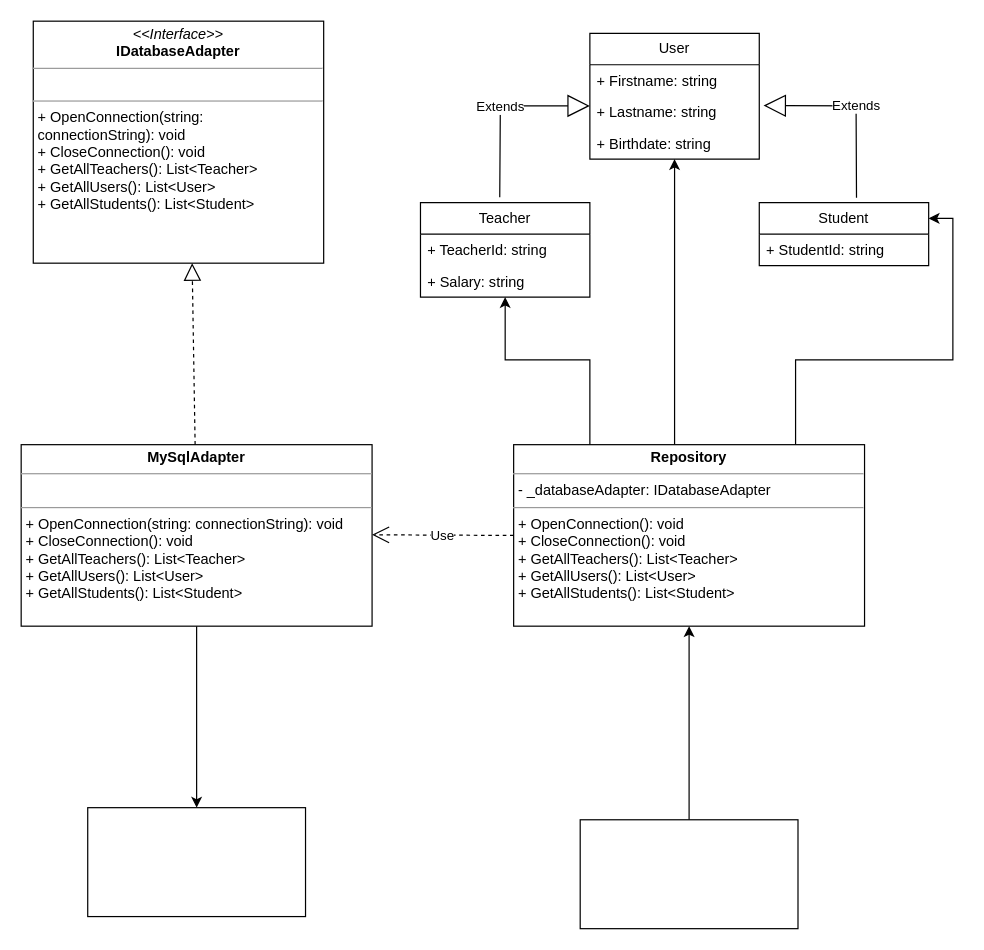
Image size: 984x950. Some labels were removed from this diagram. The centre of each missing label's shape, as x and y in pixels:
MainProgramm: (688,874)
MySQLDatabase: (196,861)
